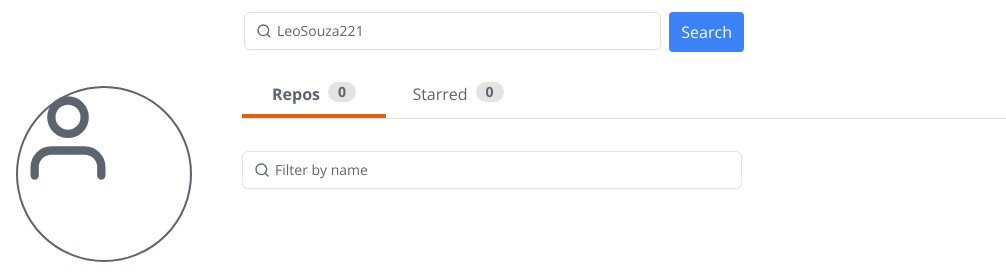
Test case: Home › show error when leave input empty
Clear the field with placeholder "Username" at (453, 31), box [244,12,661,50]
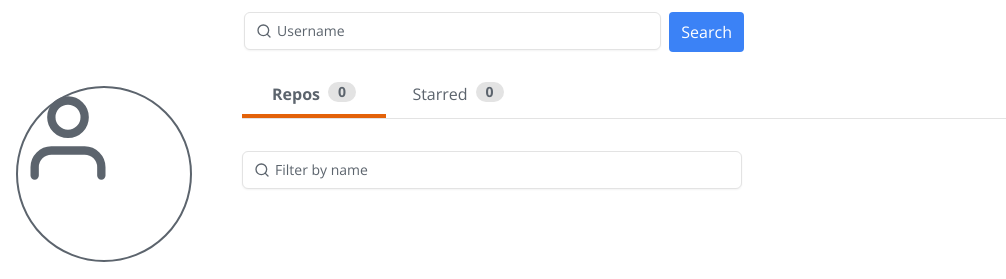
Click the button "Search" at (707, 32), box [669,12,744,52]
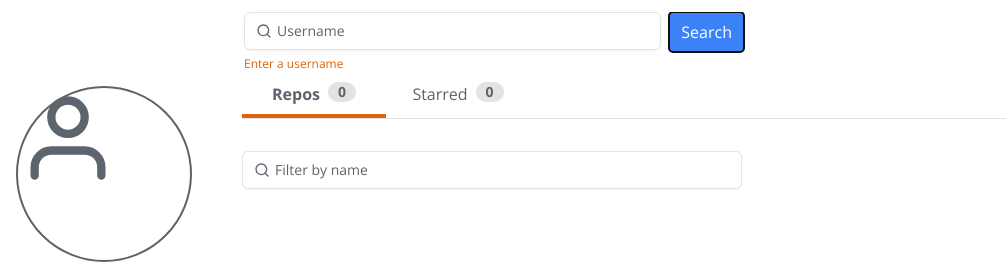
Expected: the text "Enter a username" is shown, [244,55,344,72]
